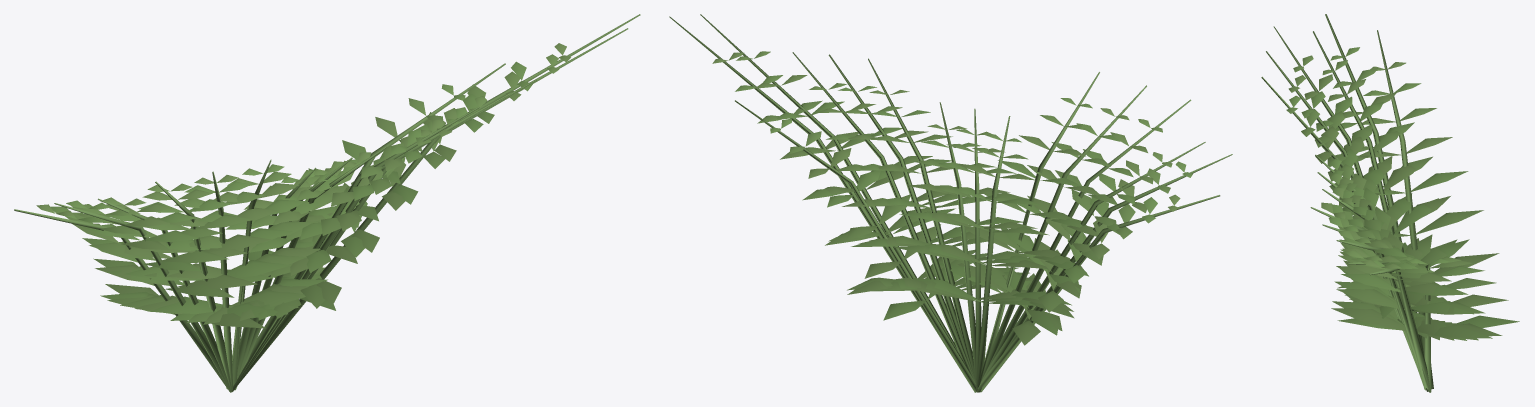
The model's file is foreground-fronds.desktop.glb.
3 renders of one model, left to right at view 1: azimuth 30°, elevation 25°; view 2: azimuth 150°, elevation 25°; view 3: azimuth 270°, elevation 25°, orthographic. The views are drawn at different scales.
Parts seen in each view (by area): view 1: SA_G10_MESH_60, SA_G10_MESH_61, SA_G10_MESH_62; view 2: SA_G10_MESH_62, SA_G10_MESH_60, SA_G10_MESH_61; view 3: SA_G10_MESH_61, SA_G10_MESH_60, SA_G10_MESH_62.
Boxes of the visible parts, x1,y1,x2,y2 form: SA_G10_MESH_60: (14, 79, 536, 392); SA_G10_MESH_61: (54, 14, 640, 392); SA_G10_MESH_62: (120, 28, 628, 391); SA_G10_MESH_62: (700, 14, 1191, 392); SA_G10_MESH_60: (792, 52, 1220, 392); SA_G10_MESH_61: (669, 16, 1232, 392); SA_G10_MESH_61: (1266, 14, 1502, 392); SA_G10_MESH_60: (1261, 30, 1499, 392); SA_G10_MESH_62: (1273, 26, 1519, 392).
Bounding box in the file's own units: 1.82 × 0.86 × 0.691.
